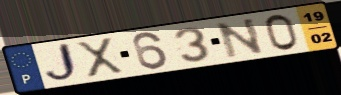0: (264, 13, 301, 52)
3: (172, 26, 211, 64)
6: (131, 31, 169, 71)
J: (42, 41, 82, 84)
N: (213, 16, 267, 60)
X: (73, 36, 127, 80)
